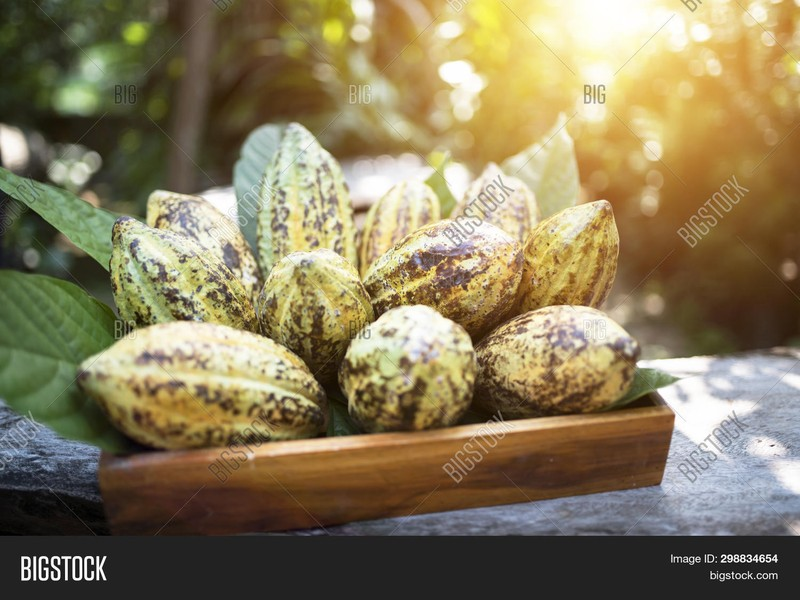Cacaopod: (361, 215, 519, 325)
